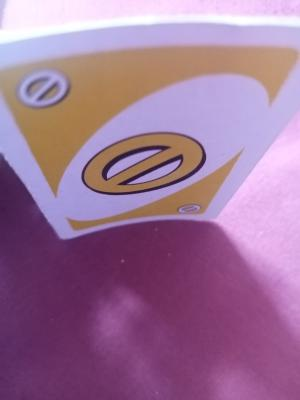skip: (11, 71, 74, 111), (174, 203, 204, 216)
yellow: (10, 66, 234, 215)
